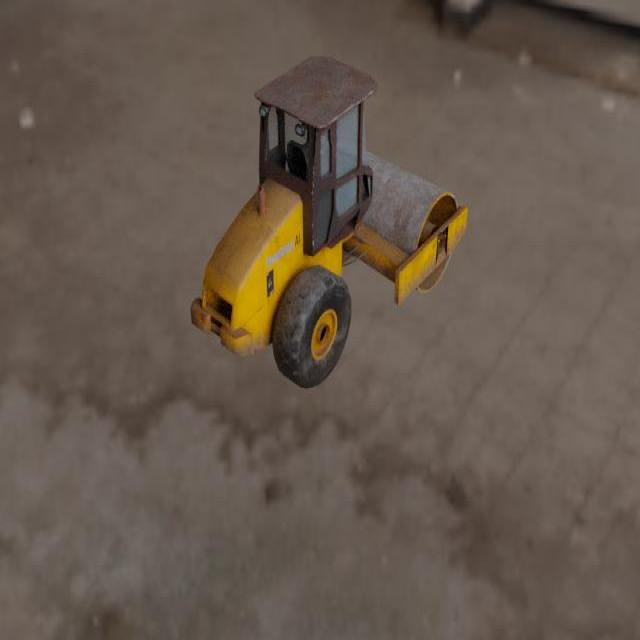Roller: (189, 55, 468, 389)
